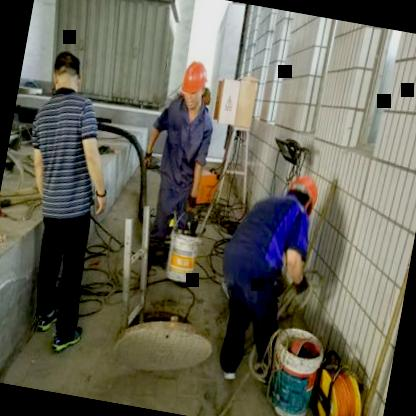helmet: (176, 56, 212, 114), (281, 172, 324, 218)
